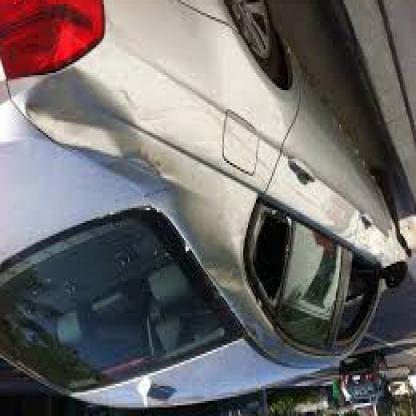dent: (34, 72, 144, 162)
